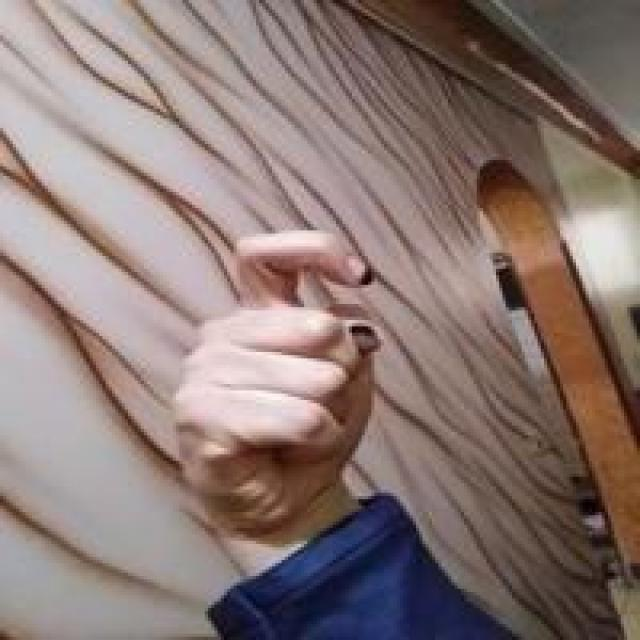X: (162, 219, 386, 520)
